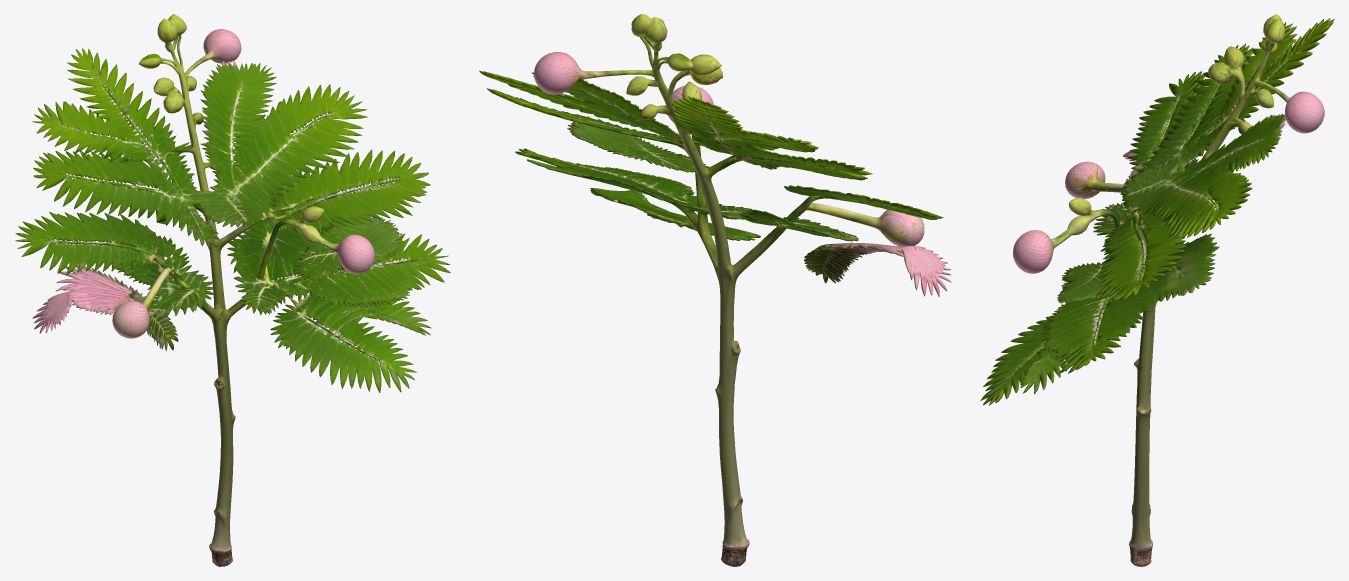
The model's file is hehuanhua.glb.
3 views of the same model, side by side, from view 1: azimuth 30°, elevation 25°; view 2: azimuth 150°, elevation 25°; view 3: azimuth 270°, elevation 25° (orthographic). The views are drawn at different scales.
Visible parts, largest first — view 1: node_0; view 2: node_0; view 3: node_0.
Part boxes in pixels (box(x1,y1,x2,y2)): node_0: box(15, 14, 450, 566); node_0: box(479, 14, 951, 566); node_0: box(980, 14, 1334, 566).
Size of the model in its own units: 0.9136 by 1.12 by 0.6494.
Materials: 1 (1 with a texture image).
